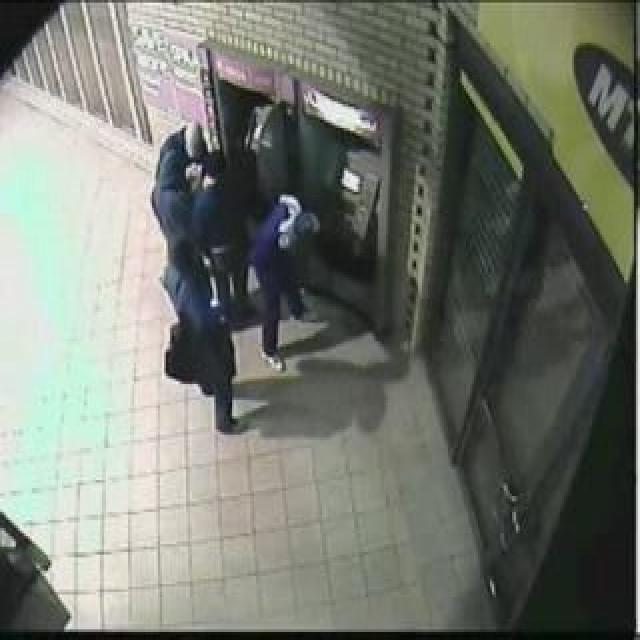thief: (136, 138, 337, 368)
